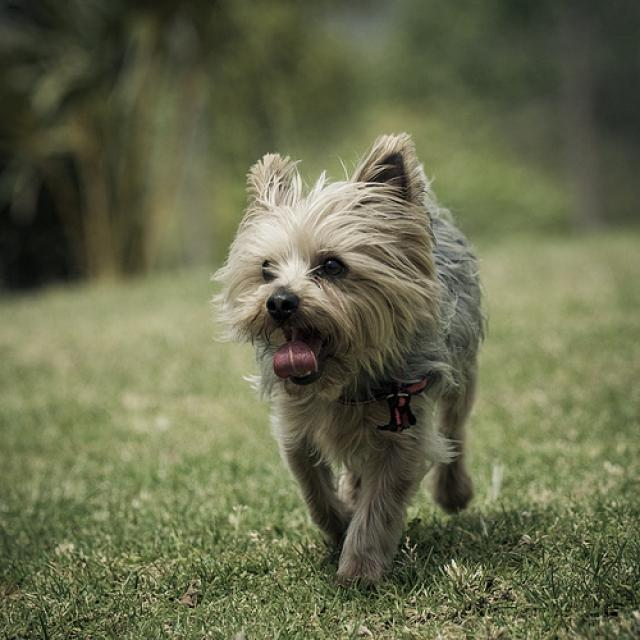dog-yorkshire_terrier: (200, 124, 493, 594)
